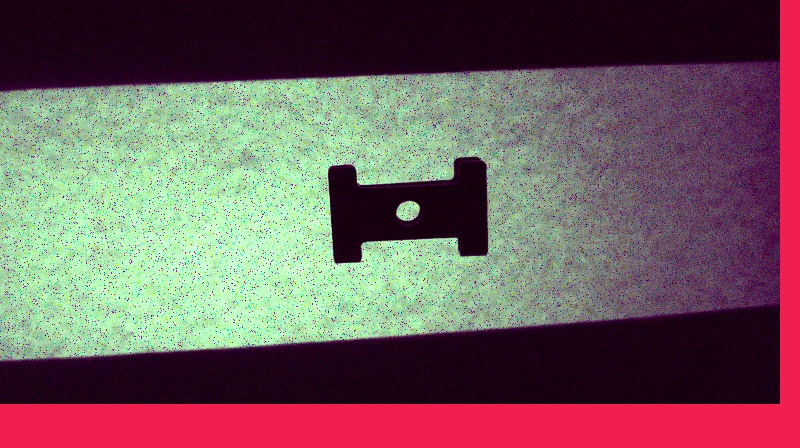O002: (329, 152, 497, 266)
